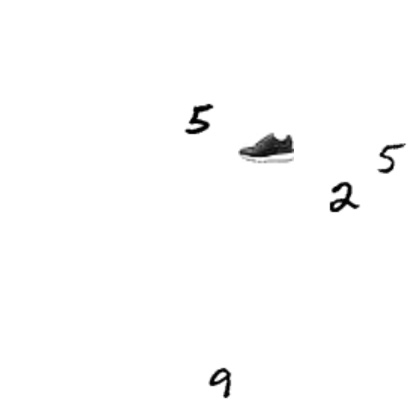2: (321, 176, 363, 218)
5: (368, 136, 410, 178), (177, 98, 219, 140)
9: (201, 359, 243, 401)
Sneaker: (238, 119, 294, 175)
